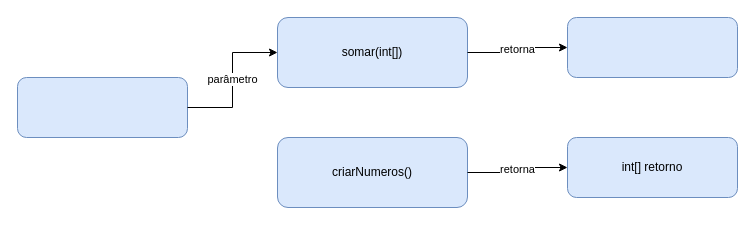
The diagram is 755 pixels wide and 225 high, and some of its shapes have lost their labels. The shapes that lost their labels are listed below. From the top down, each one's box as (x1, y1, x2, y2) in pixels, then its label:
(566, 16, 738, 78): int resultado
(16, 76, 188, 138): int[] valores
